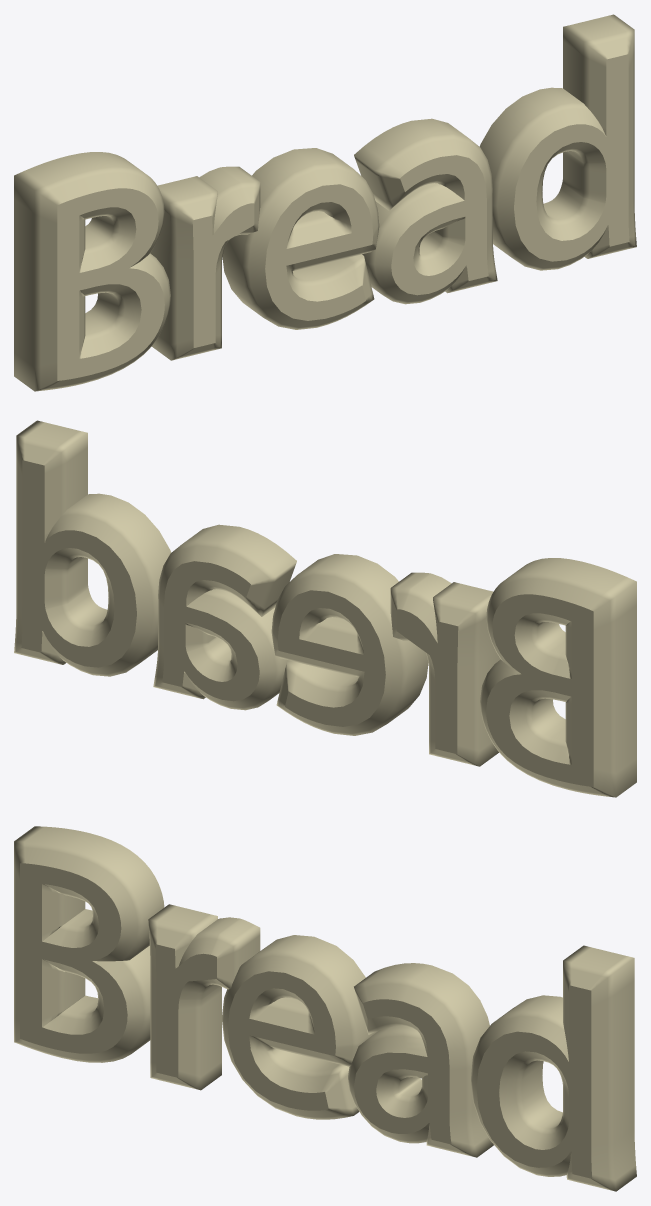
The model's file is bread.fbx.
3 renders of one model, top to bottom at view 1: azimuth 30°, elevation 25°; view 2: azimuth 150°, elevation 25°; view 3: azimuth 330°, elevation 25°, orthographic.
Parts seen in each view (by area): view 1: bevelPolygon1, bevelPolygon5, bevelPolygon3, bevelPolygon4, bevelPolygon2; view 2: bevelPolygon1, bevelPolygon5, bevelPolygon3, bevelPolygon4, bevelPolygon2; view 3: bevelPolygon1, bevelPolygon5, bevelPolygon4, bevelPolygon3, bevelPolygon2.
Boxes of the visible parts, box(x1,y1,x2,y2) form: bevelPolygon1: box(14, 152, 170, 391); bevelPolygon5: box(479, 14, 636, 270); bevelPolygon3: box(222, 148, 379, 329); bevelPolygon4: box(354, 118, 497, 304); bevelPolygon2: box(150, 166, 260, 360); bevelPolygon1: box(480, 558, 636, 797); bevelPolygon5: box(14, 420, 171, 676); bevelPolygon3: box(271, 554, 428, 735); bevelPolygon4: box(153, 524, 296, 710); bevelPolygon2: box(390, 572, 500, 766); bevelPolygon1: box(14, 826, 164, 1062); bevelPolygon5: box(471, 945, 636, 1191); bevelPolygon4: box(348, 963, 493, 1157); bevelPolygon3: box(221, 935, 377, 1119); bevelPolygon2: box(148, 904, 260, 1090).
Bounding box in the file's own units: 4.2 × 1.47 × 0.45.
